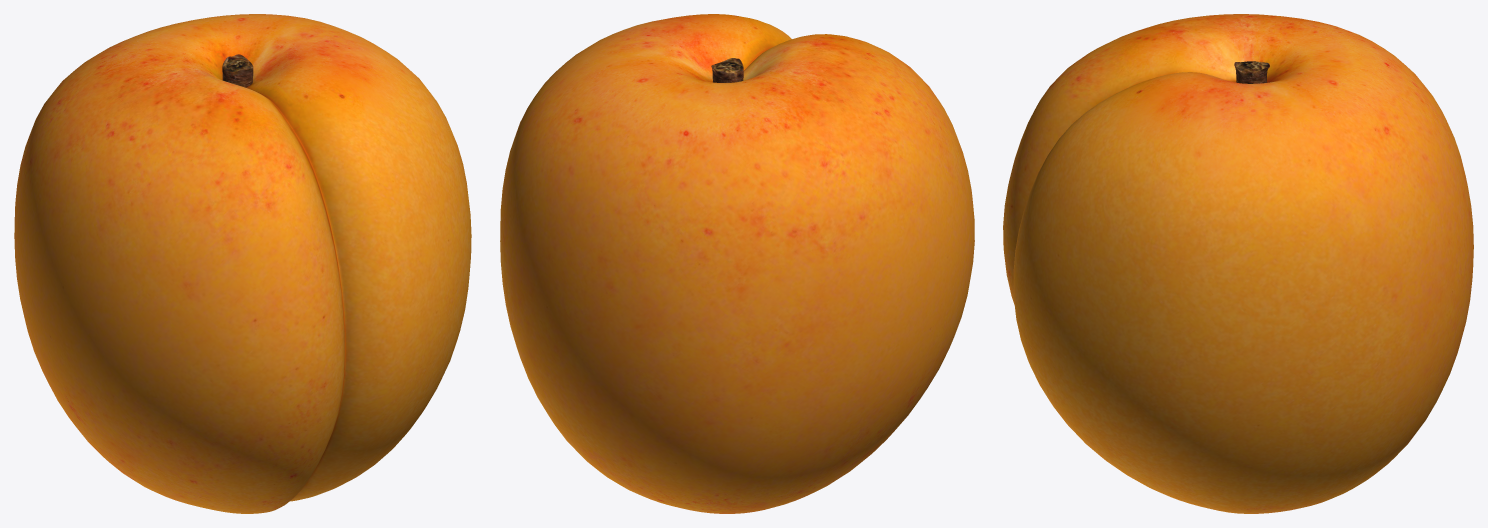
The model's file is APPLE.glb.
The picture shows the model from 3 angles, left to right: view 1: azimuth 30°, elevation 25°; view 2: azimuth 150°, elevation 25°; view 3: azimuth 270°, elevation 25°; orthographic projection.
Parts seen in each view (by area): view 1: 12203_Fruit_v1_L3; view 2: 12203_Fruit_v1_L3; view 3: 12203_Fruit_v1_L3.
Part boxes in pixels (<box>): 12203_Fruit_v1_L3: <box>14,14,471,513</box>; 12203_Fruit_v1_L3: <box>500,14,974,513</box>; 12203_Fruit_v1_L3: <box>1003,14,1473,513</box>.
Bounding box in the file's own units: 5.21 × 5.55 × 5.35.
Materials: 1 (1 with a texture image).
